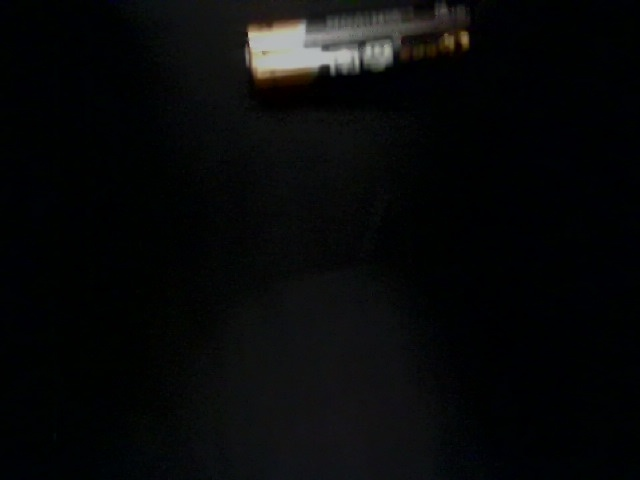QTLJ: (39, 202, 214, 417)
